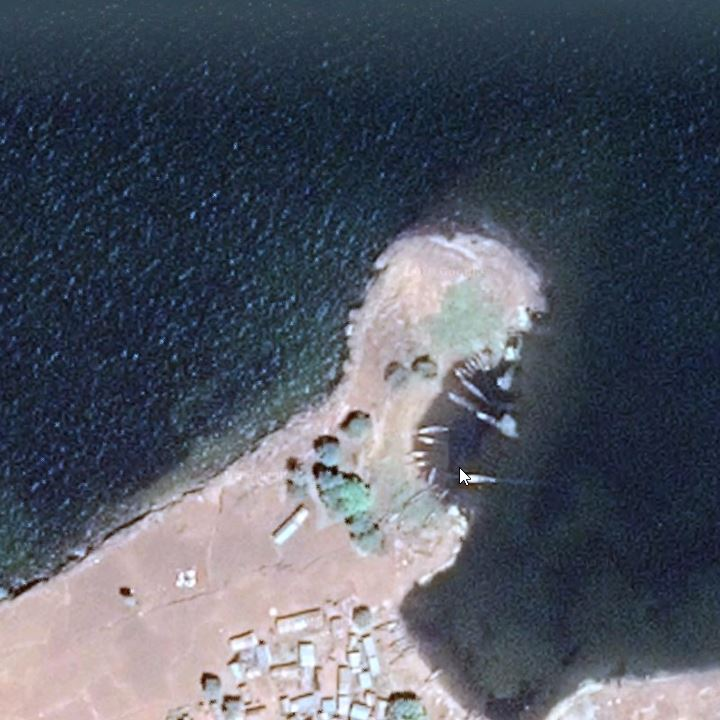boat: (399, 482, 443, 512), (450, 373, 489, 401), (441, 391, 481, 415), (394, 641, 425, 666), (367, 615, 400, 635), (423, 661, 446, 687), (383, 633, 420, 649), (459, 472, 498, 487), (401, 449, 443, 462), (413, 425, 458, 436), (411, 435, 446, 448), (422, 508, 437, 529), (385, 511, 403, 527), (474, 354, 487, 372), (457, 367, 475, 379), (464, 361, 477, 375), (428, 468, 438, 486), (469, 358, 480, 372)
